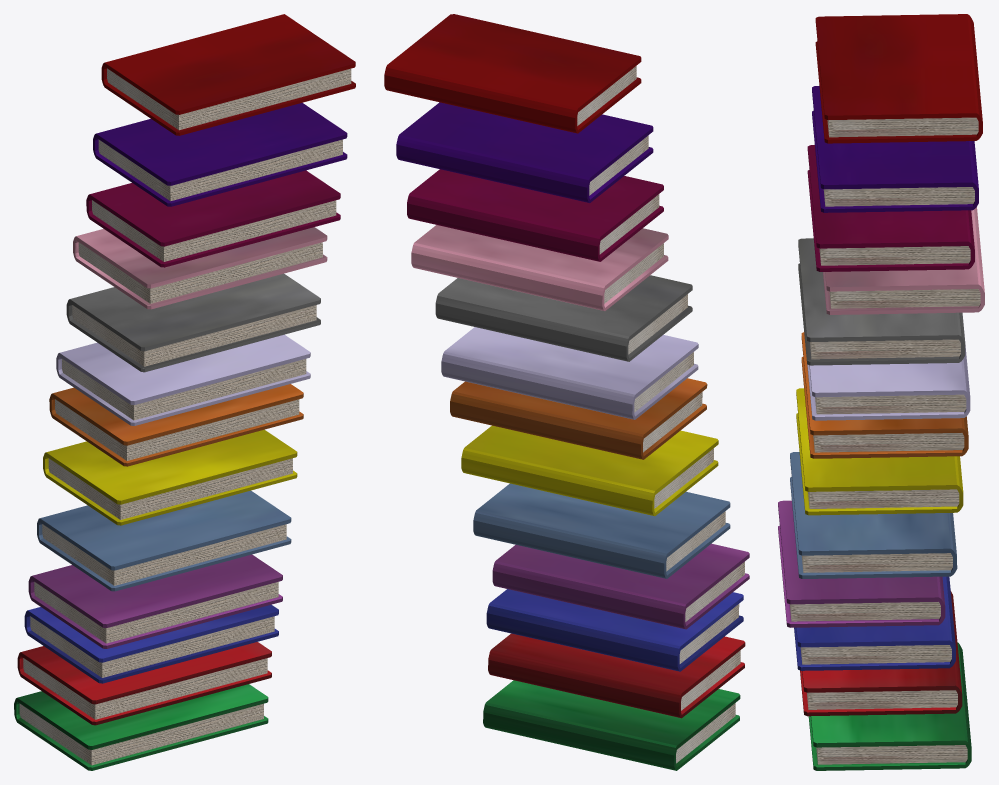
The model's file is UsualBooks.fbx.
3 renders of one model, left to right at view 1: azimuth 30°, elevation 25°; view 2: azimuth 150°, elevation 25°; view 3: azimuth 270°, elevation 25°, orthographic. The views are drawn at different scales.
Visible parts, largest first — view 1: Cube.049, Cube.048, Cube.041, Cube.045, Cube.047, Cube.042, Cube.040, Cube.044, Cube.037, Cube.046, Cube.038, Cube.043 (+1 smaller); view 2: Cube.049, Cube.048, Cube.041, Cube.047, Cube.044, Cube.042, Cube.037, Cube.045, Cube.040, Cube.046, Cube.038, Cube.039 (+1 smaller); view 3: Cube.049, Cube.048, Cube.041, Cube.047, Cube.042, Cube.045, Cube.037, Cube.040, Cube.044, Cube.038, Cube.046, Cube.039 (+1 smaller).
Boxes of the visible parts, bbox=[...] form: Cube.049: bbox=[101, 14, 355, 135]; Cube.048: bbox=[93, 102, 347, 206]; Cube.041: bbox=[37, 490, 291, 591]; Cube.045: bbox=[66, 273, 320, 372]; Cube.047: bbox=[86, 170, 340, 267]; Cube.042: bbox=[43, 429, 297, 525]; Cube.040: bbox=[28, 554, 282, 648]; Cube.044: bbox=[56, 334, 310, 425]; Cube.037: bbox=[14, 684, 268, 770]; Cube.046: bbox=[73, 227, 327, 309]; Cube.038: bbox=[17, 642, 271, 725]; Cube.043: bbox=[49, 384, 303, 466]; Cube.049: bbox=[384, 14, 641, 133]; Cube.048: bbox=[396, 102, 653, 202]; Cube.041: bbox=[473, 483, 730, 578]; Cube.047: bbox=[407, 169, 663, 261]; Cube.044: bbox=[441, 327, 698, 419]; Cube.042: bbox=[461, 425, 718, 516]; Cube.037: bbox=[483, 680, 740, 770]; Cube.045: bbox=[435, 275, 692, 361]; Cube.040: bbox=[492, 543, 749, 629]; Cube.046: bbox=[411, 225, 668, 310]; Cube.038: bbox=[488, 633, 745, 718]; Cube.039: bbox=[486, 589, 743, 671]; Cube.049: bbox=[815, 14, 982, 143]; Cube.048: bbox=[812, 86, 978, 212]; Cube.041: bbox=[790, 452, 957, 578]; Cube.047: bbox=[807, 145, 974, 271]; Cube.042: bbox=[796, 388, 963, 515]; Cube.045: bbox=[798, 238, 965, 365]; Cube.037: bbox=[808, 642, 971, 770]; Cube.040: bbox=[778, 500, 945, 627]; Cube.044: bbox=[807, 316, 970, 420]; Cube.038: bbox=[800, 591, 962, 716]; Cube.046: bbox=[823, 207, 984, 314]; Cube.039: bbox=[794, 576, 955, 670].
Size of the model in its own units: 76.39 by 164 by 43.63.
